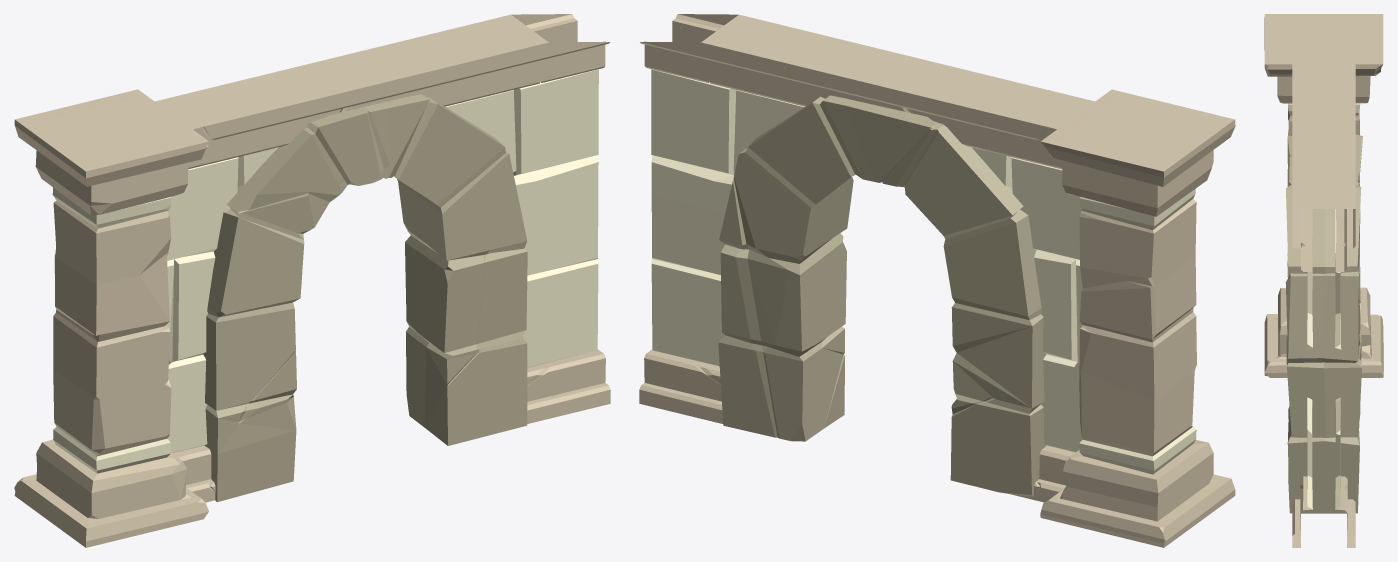
Rendered from SM_SM_Dooe_03.002.fbx.
The picture shows the model from 3 angles, left to right: view 1: azimuth 30°, elevation 25°; view 2: azimuth 150°, elevation 25°; view 3: azimuth 270°, elevation 25°; orthographic projection. The views are drawn at different scales.
Visible parts, largest first — view 1: SM_Dooe_03.002; view 2: SM_Dooe_03.002; view 3: SM_Dooe_03.002.
Boxes of the visible parts, bbox=[...] form: SM_Dooe_03.002: bbox=[14, 14, 610, 547]; SM_Dooe_03.002: bbox=[639, 14, 1235, 547]; SM_Dooe_03.002: bbox=[1264, 14, 1383, 547].
Size of the model in its own units: 452 by 301 by 103.
